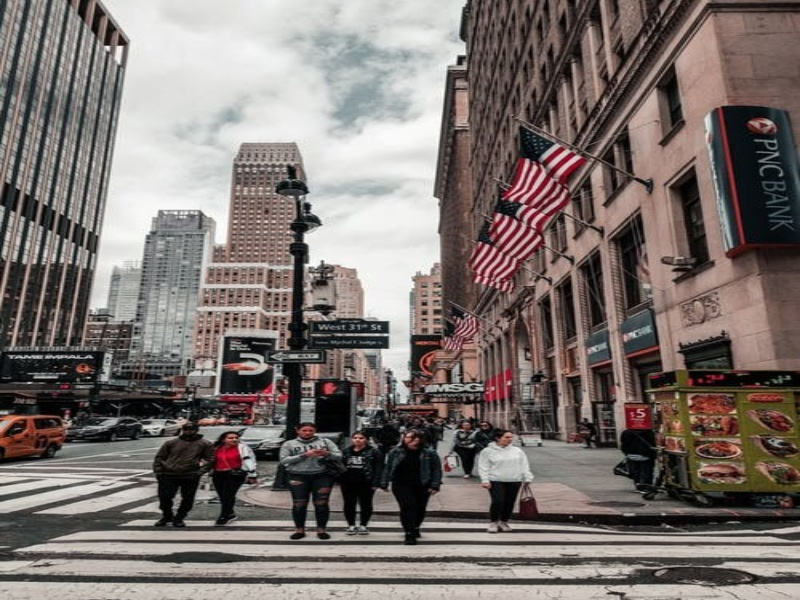zebra cross: (1, 515, 800, 597), (1, 463, 157, 509)
